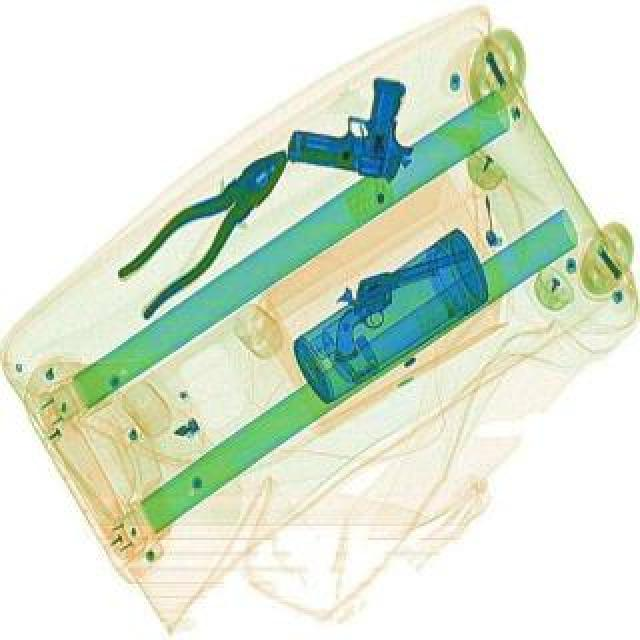gun: (310, 244, 494, 364), (282, 64, 426, 184)
wrench: (104, 130, 312, 318)
